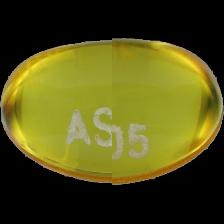0904-5904: (0, 0, 224, 224)
